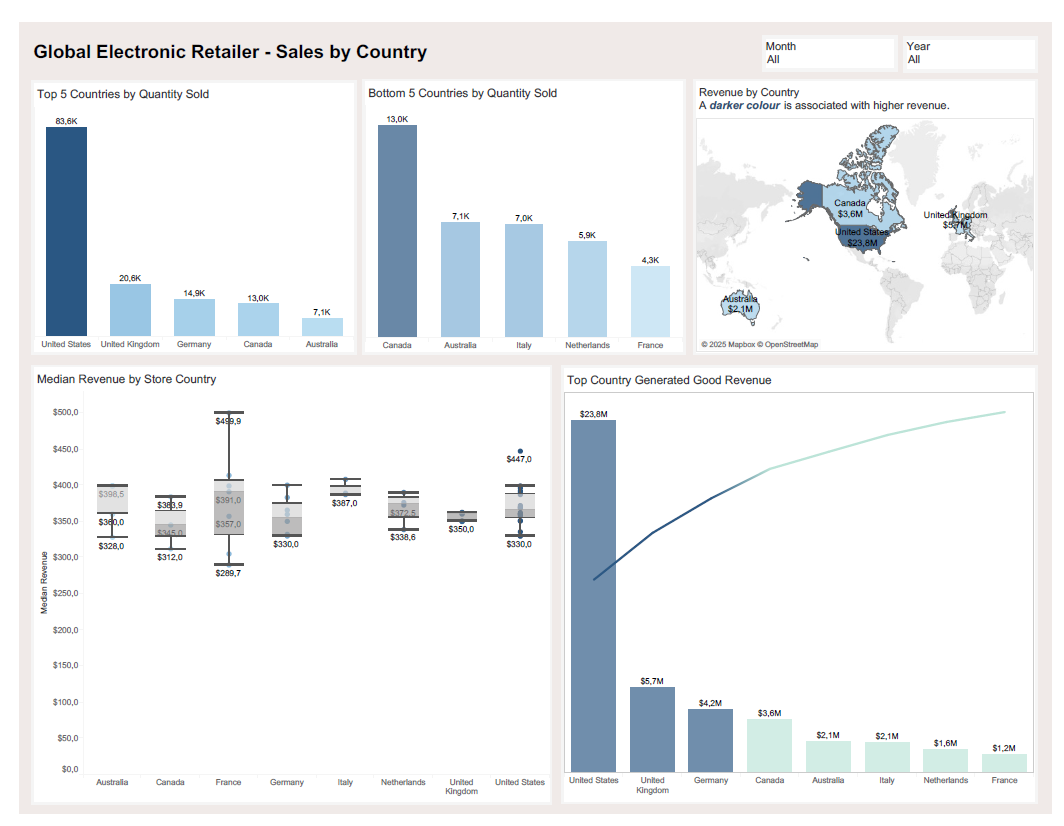

The page's visual inventory and layout, read from the dashboard file:
{"tool":"tableau","page":{"name":"Sales by Country","canvas":[1500,1150],"ordinal":3},"visuals":[{"type":"text","box":[17,18,756,47]},{"type":"parameter","param":"[Parameters].[YEAR Parameter]","box":[1286,20,195,52]},{"type":"worksheet","title":"Bottom Sales Country","mark":"Automatic","rows":["ProductKey"],"cols":["Store_Country"],"box":[499,82,469,400]},{"type":"worksheet","title":"Revenue by Store Country","mark":"Automatic","box":[980,82,500,401]},{"type":"worksheet","title":"Top Sales Country","mark":"Automatic","rows":["ProductKey"],"cols":["Store_Country"],"box":[17,84,473,398]},{"type":"worksheet","title":"Median Revenue by Store Country","mark":"Circle","rows":["Revenue"],"cols":["Store_Country"],"box":[17,498,757,639]},{"type":"worksheet","title":"Top Country Generated Good Revenue","mark":"Line","rows":["Revenue","Calculation_1338976494388994067"],"cols":["Store_Country"],"box":[788,499,692,637]}]}

Visuals, with their boxes in screenshot pixels (x1, y1, x2, y2), scaled from the page's 1500x1150 canvas onto the 1064x826 screenshot:
text: rect(12, 13, 548, 47)
parameter: rect(912, 14, 1051, 52)
"Bottom Sales Country" worksheet: rect(354, 59, 687, 346)
"Revenue by Store Country" worksheet: rect(695, 59, 1050, 347)
"Top Sales Country" worksheet: rect(12, 60, 348, 346)
"Median Revenue by Store Country" worksheet (Circle marks): rect(12, 358, 549, 817)
"Top Country Generated Good Revenue" worksheet (Line marks): rect(559, 358, 1050, 816)
